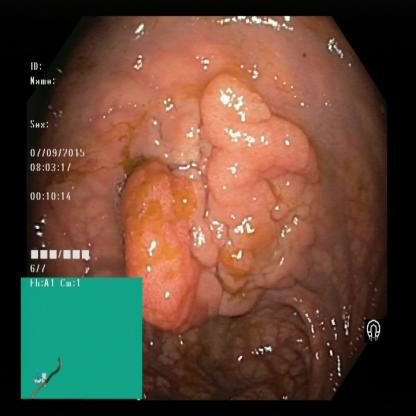Labels: (28, 61, 100, 278), (22, 274, 141, 400), (362, 313, 384, 349)
Polyps: (208, 88, 319, 262), (126, 169, 217, 324)
